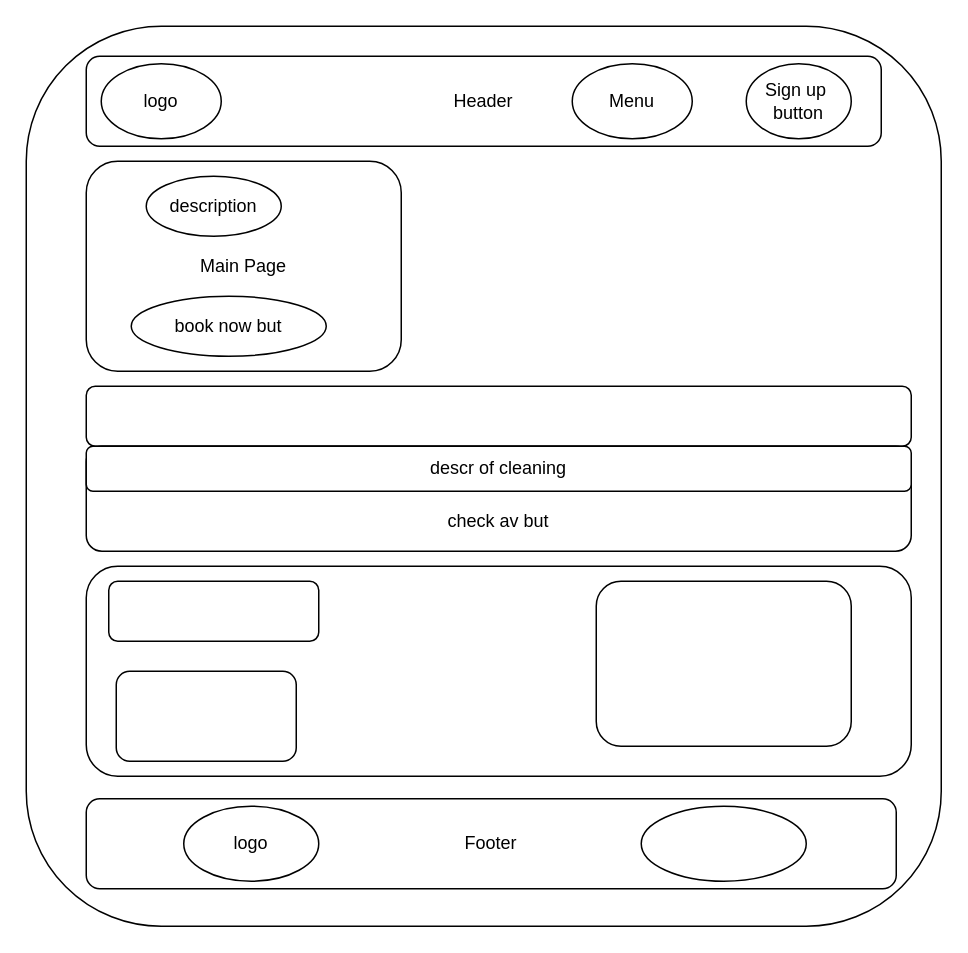
Some shapes in this 968 by 953 pixel diagram are drawn without their labels. Here are the shapes that lost their labels. From the top down, the centre of each, then its label:
the point at 498,415: Types of cleaning
the point at 213,610: book now + input cleaning type
the point at 723,663: WorkersList
the point at 205,715: calend
the point at 723,843: contacts
